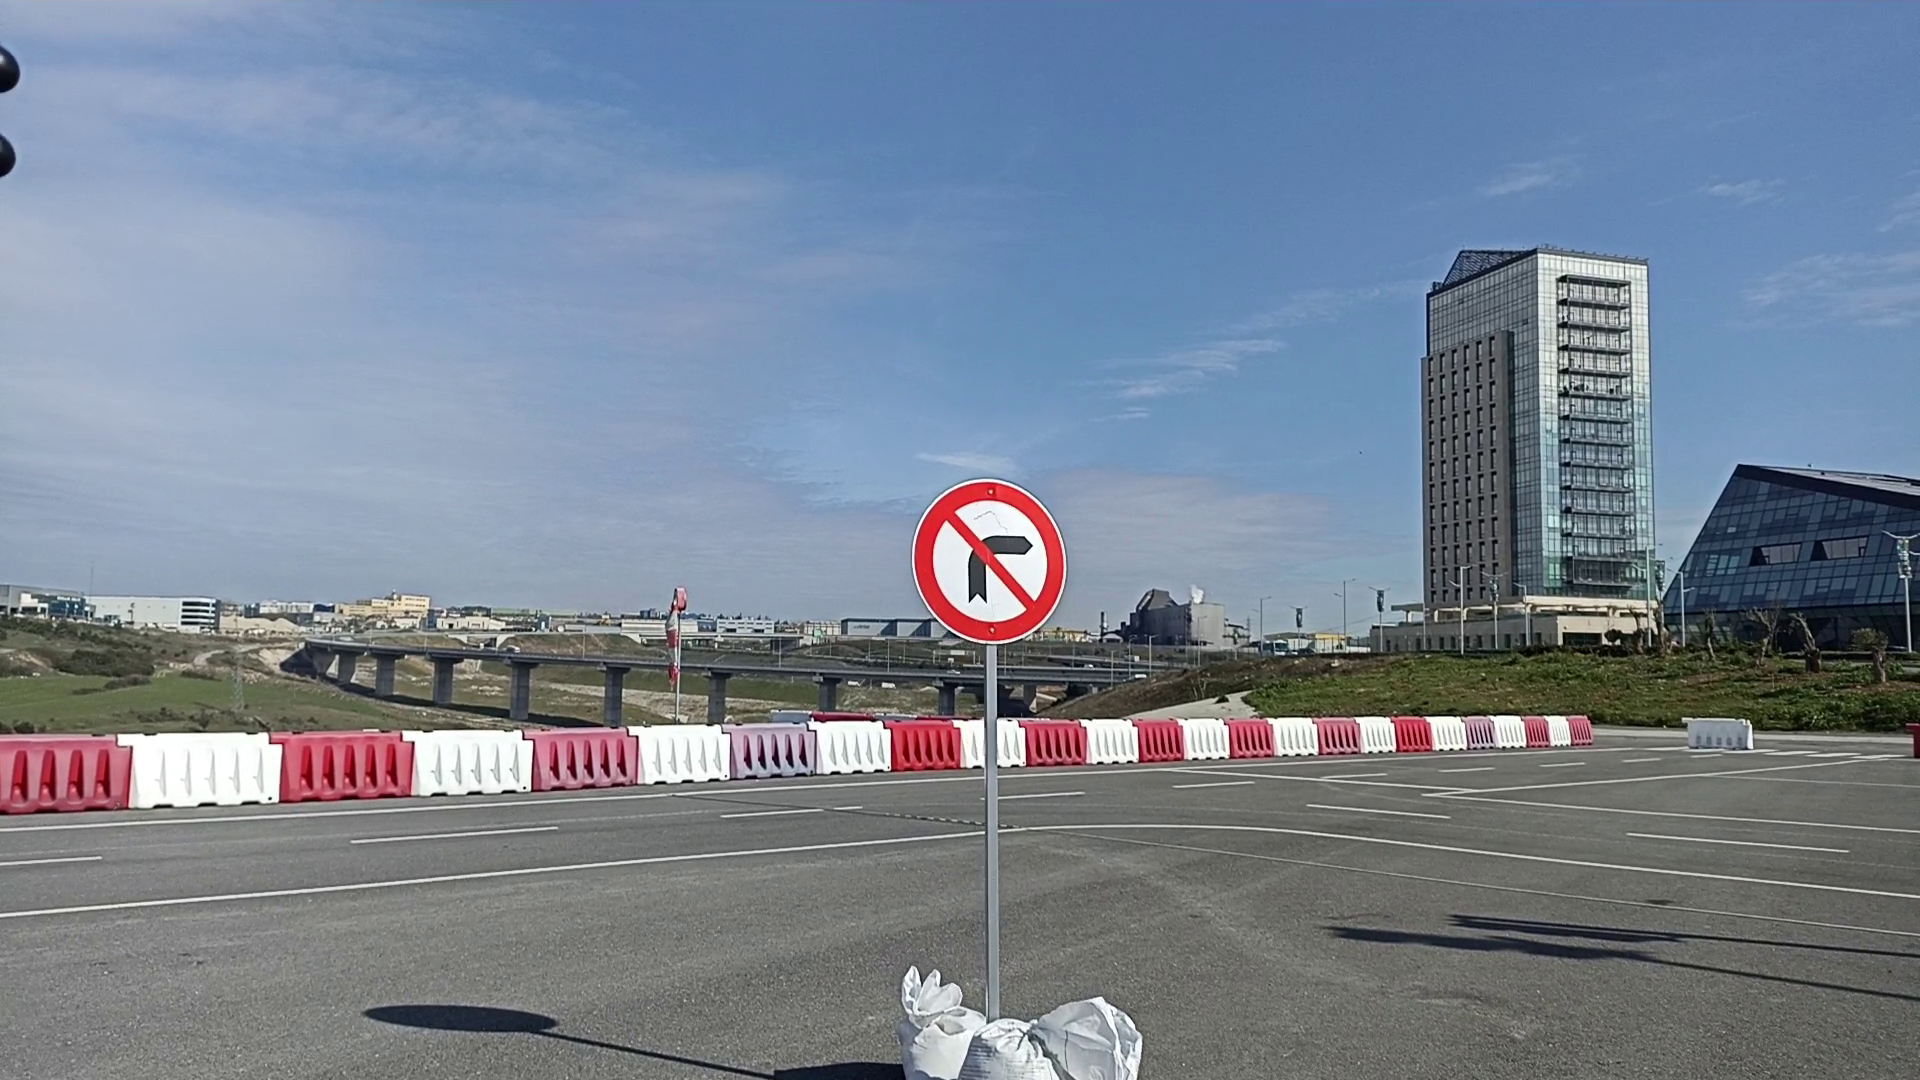noleftturn: (909, 476, 1069, 647)
